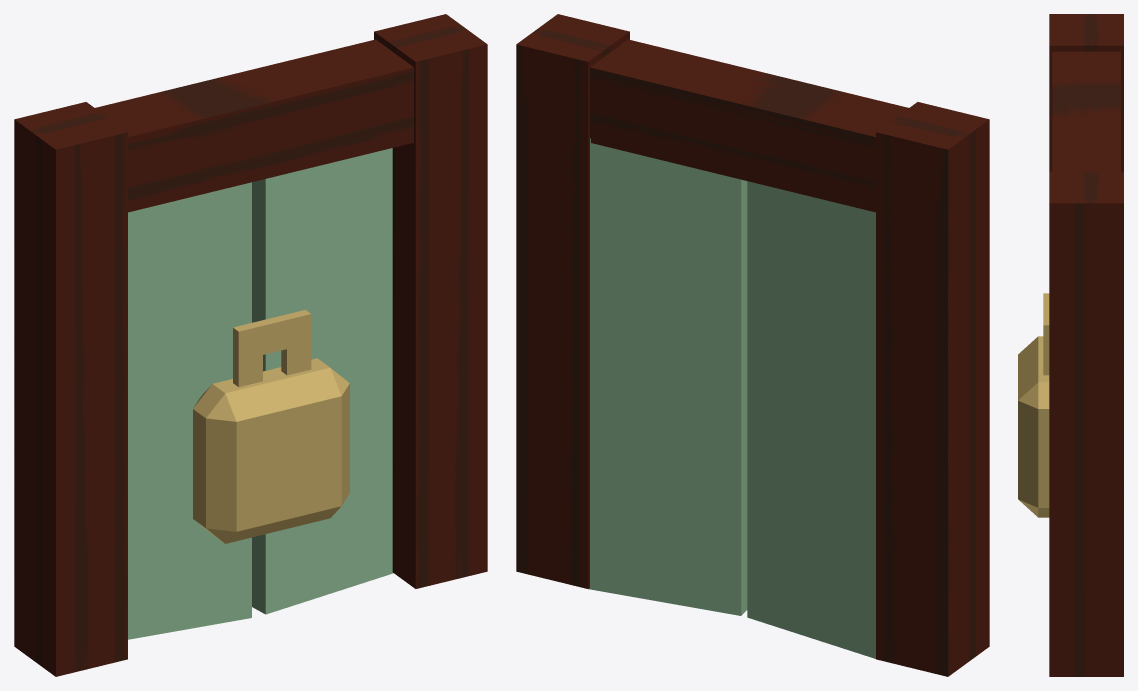
The model's file is KeyDoor.fbx.
The picture shows the model from 3 angles, left to right: view 1: azimuth 30°, elevation 25°; view 2: azimuth 150°, elevation 25°; view 3: azimuth 270°, elevation 25°; orthographic projection. The views are drawn at different scales.
Parts seen in each view (by area): view 1: Cube.050, Cube.046, Cube.049, Cube.047, Cube.048; view 2: Cube.046, Cube.050, Cube.049; view 3: Cube.050, Cube.049, Cube.047, Cube.048.
Boxes of the visible parts, x1,y1,x2,y2 form: Cube.050: [14, 14, 487, 676]; Cube.046: [128, 148, 393, 639]; Cube.049: [95, 39, 413, 212]; Cube.047: [193, 358, 349, 543]; Cube.048: [233, 310, 311, 386]; Cube.046: [588, 138, 875, 658]; Cube.050: [516, 14, 989, 676]; Cube.049: [590, 39, 908, 212]; Cube.050: [1049, 14, 1123, 676]; Cube.049: [1052, 51, 1120, 171]; Cube.047: [1018, 336, 1049, 517]; Cube.048: [1043, 293, 1049, 375].
Bounding box in the file's own units: 6 × 7.02 × 1.42.
